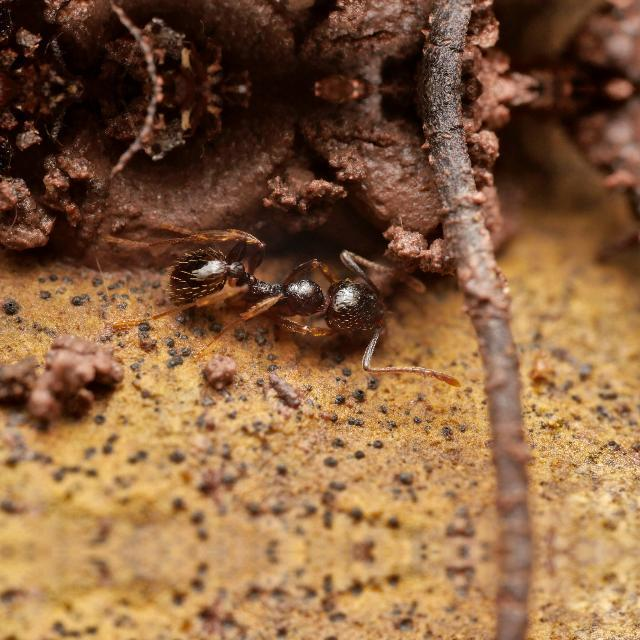Apheanogaster: (146, 225, 416, 358)
